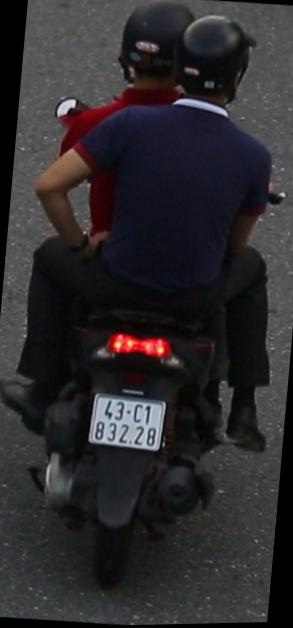LP: (85, 386, 170, 457)
helmet: (167, 8, 259, 130), (108, 0, 195, 115)
